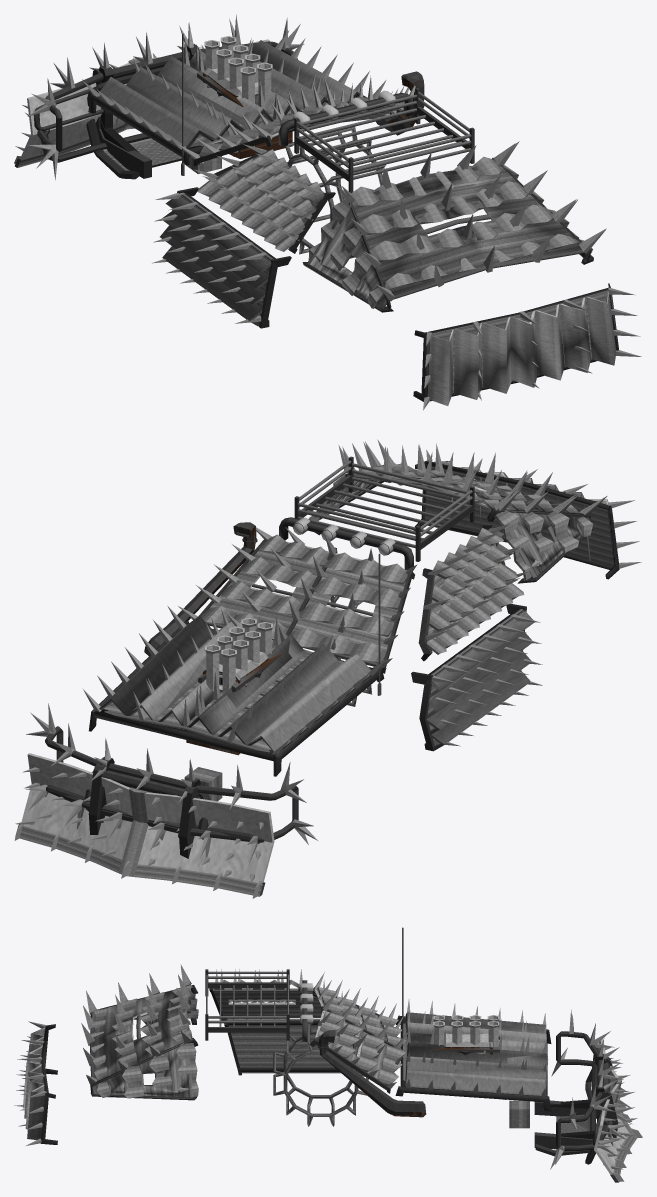
Rendered from SportsCarArmor.fbx.
3 views of the same model, one above another, from view 1: azimuth 30°, elevation 25°; view 2: azimuth 150°, elevation 25°; view 3: azimuth 270°, elevation 25° (orthographic). The views are drawn at different scales.
Parts seen in each view (by area): view 1: trunkreinforcedrear, windowheavyrear, windowreinforcedrear, hoodreinforcedfront, roofrack, doorfrontreinforcedleft, windowfrontreinforcedleft, hoodreinforcedfrontscoop, plow, airscooppiped, pushbar_large_spiked, pushbar_medium (+19 smaller); view 2: plow, hoodreinforcedfront, hoodreinforcedfrontscoop, windowreinforcedfront, plow_spiked, roofrack, doorfrontreinforcedleft, windowfrontreinforcedleft, pushbar_large_spiked, windowreinforcedrear, windowheavyfront, airscooppiped (+24 smaller); view 3: hoodreinforcedfront, hoodreinforcedfrontscoop, windowheavyrear, windowreinforcedrear, windowreinforcedfront, doorfrontheavyleft, roofrack, windowfrontheavyleft, pushbar_large_spiked, chaintires, trunkreinforcedrear, snorkel (+21 smaller).
Boxes of the visible parts, <box> form: trunkreinforcedrear: <box>425,288,615,405</box>; windowheavyrear: <box>302,157,593,312</box>; windowreinforcedrear: <box>308,156,592,308</box>; hoodreinforcedfront: <box>99,40,365,156</box>; roofrack: <box>294,88,474,192</box>; doorfrontreinforcedleft: <box>160,193,275,326</box>; windowfrontreinforcedleft: <box>197,149,324,251</box>; hoodreinforcedfrontscoop: <box>99,40,358,146</box>; plow: <box>14,39,270,167</box>; airscooppiped: <box>197,36,292,158</box>; pushbar_large_spiked: <box>25,14,304,180</box>; pushbar_medium: <box>41,60,189,179</box>; plow: <box>14,753,274,898</box>; hoodreinforcedfront: <box>96,616,377,755</box>; hoodreinforcedfrontscoop: <box>94,616,373,761</box>; windowreinforcedfront: <box>200,534,407,663</box>; plow_spiked: <box>15,755,272,881</box>; roofrack: <box>294,456,474,561</box>; doorfrontreinforcedleft: <box>426,609,534,750</box>; windowfrontreinforcedleft: <box>427,528,524,654</box>; pushbar_large_spiked: <box>26,703,317,865</box>; windowreinforcedrear: <box>309,463,592,580</box>; windowheavyfront: <box>199,540,409,673</box>; airscooppiped: <box>186,618,281,755</box>; hoodreinforcedfront: <box>401,1012,547,1095</box>; hoodreinforcedfrontscoop: <box>400,1012,547,1096</box>; windowheavyrear: <box>90,985,198,1100</box>; windowreinforcedrear: <box>91,985,198,1098</box>; windowreinforcedfront: <box>317,987,405,1085</box>; doorfrontheavyleft: <box>224,1018,358,1075</box>; roofrack: <box>205,969,289,1040</box>; windowfrontheavyleft: <box>209,986,322,1020</box>; pushbar_large_spiked: <box>550,1009,635,1169</box>; chaintires: <box>273,1024,368,1126</box>; trunkreinforcedrear: <box>23,1026,48,1139</box>; snorkel: <box>318,1030,426,1117</box>.
Size of the model in its own units: 248 by 185 by 605.
